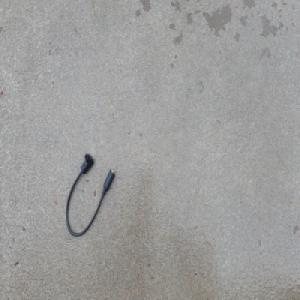Wire: (64, 151, 115, 238)
